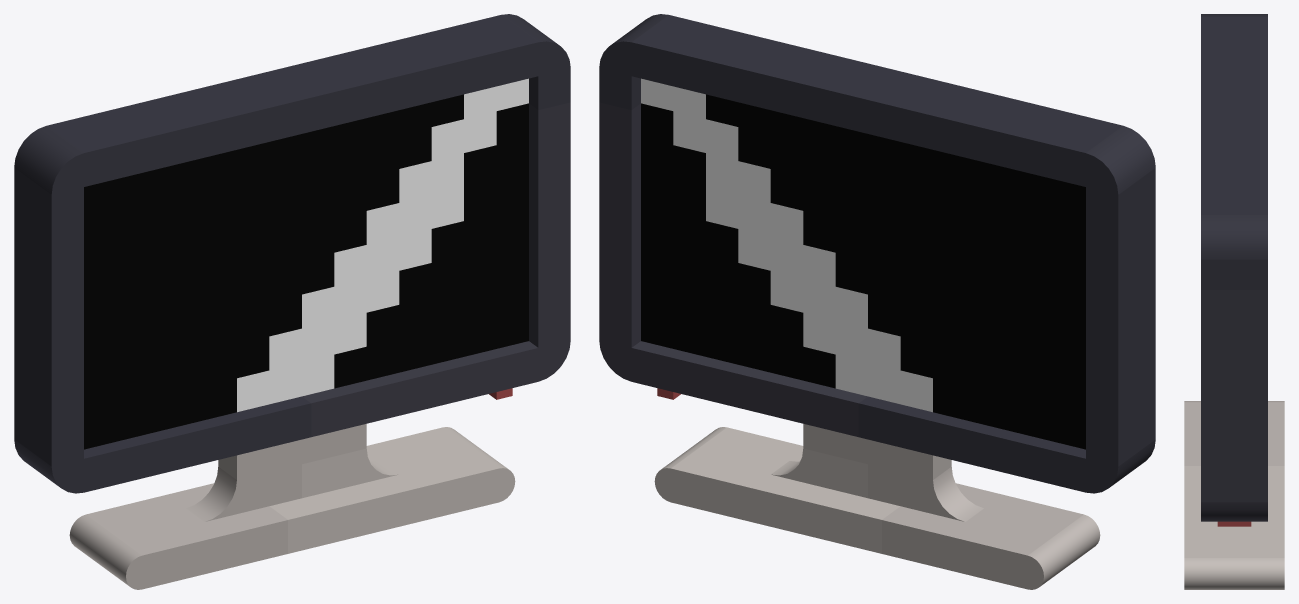
3 renders of one model, left to right at view 1: azimuth 30°, elevation 25°; view 2: azimuth 150°, elevation 25°; view 3: azimuth 270°, elevation 25°, orthographic. The views are drawn at different scales.
Visible parts, largest first — view 1: generated(Clone); view 2: generated(Clone); view 3: generated(Clone).
Part boxes in pixels (<box>): generated(Clone): <box>14,14,570,589</box>; generated(Clone): <box>599,14,1155,589</box>; generated(Clone): <box>1184,14,1284,589</box>.
Bounding box in the file's own units: 8 × 6.5 × 1.5.
Materials: 1 (1 with a texture image).
